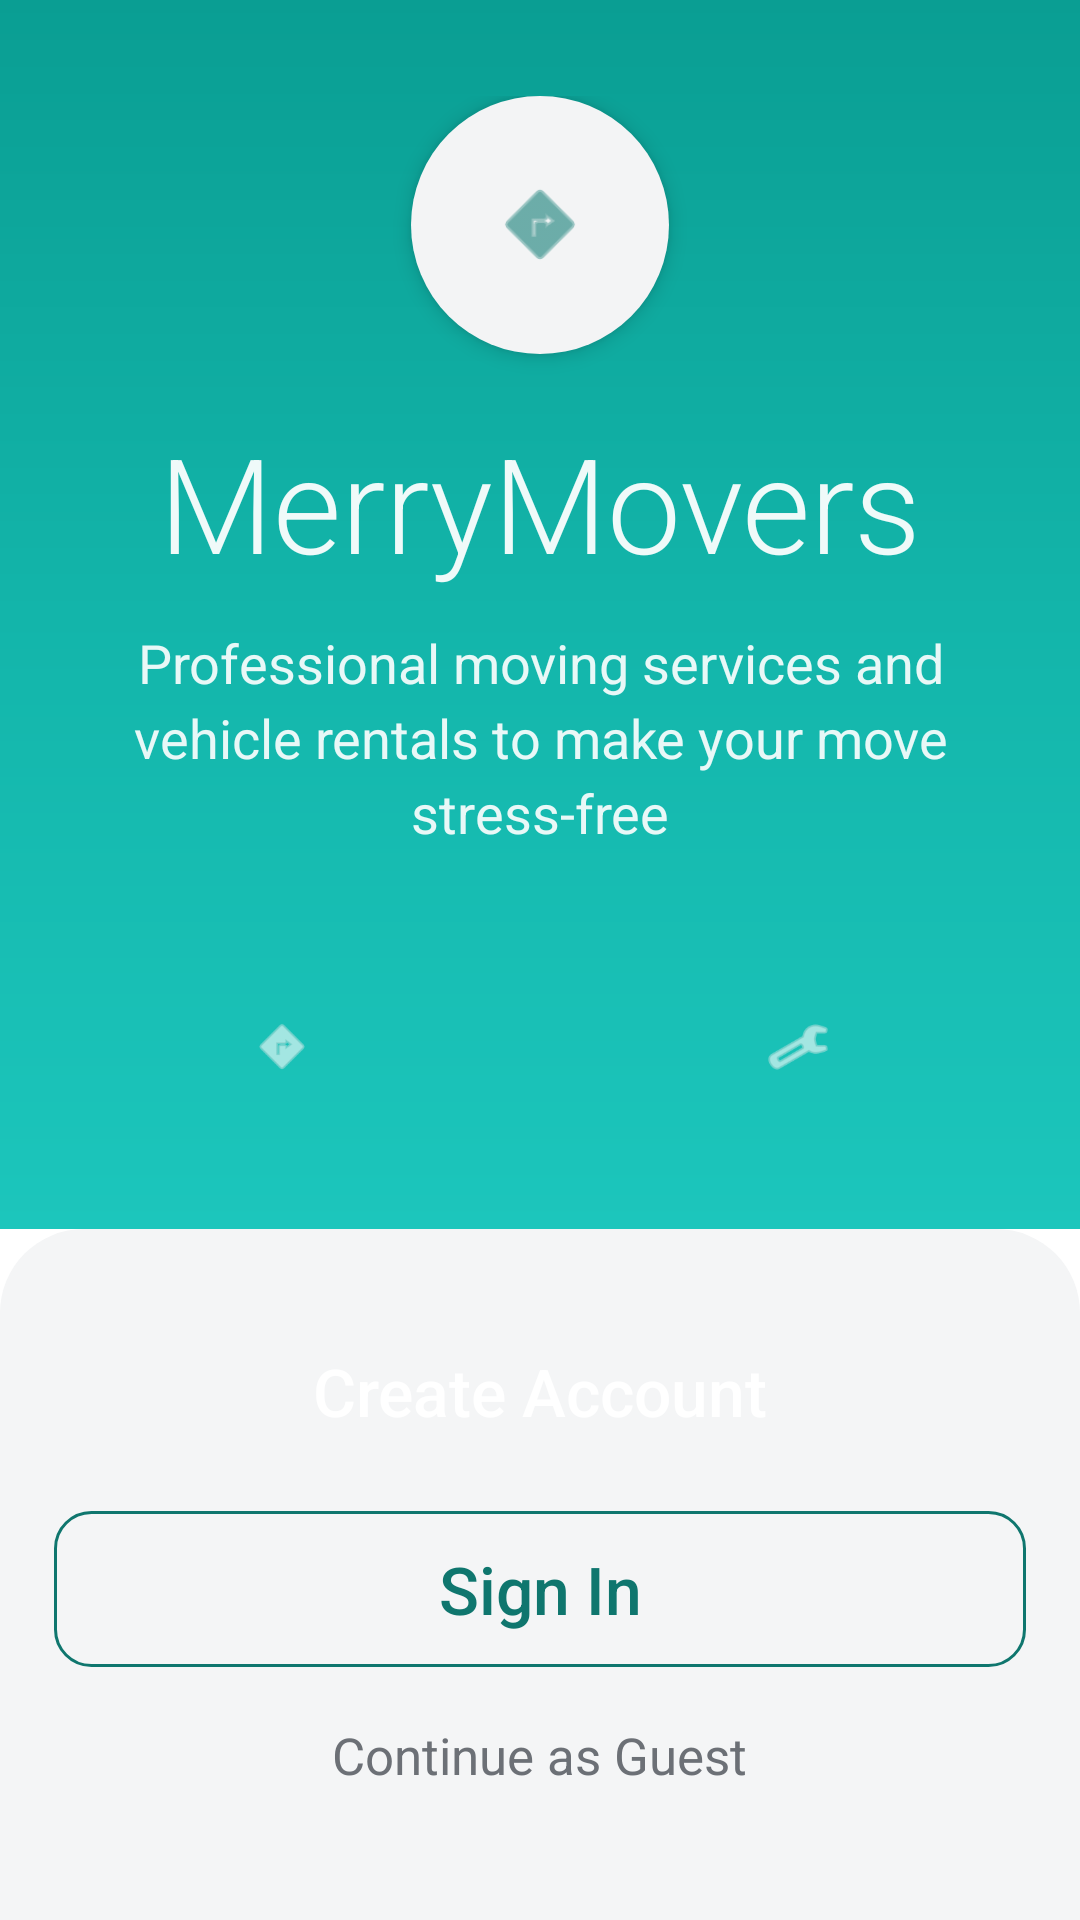

Screen size 1080px×1920px. Icon name, then its center in pixels as (x=x, y=y):
directions: (x=540, y=224), (x=282, y=1046)
manage: (x=798, y=1047)
